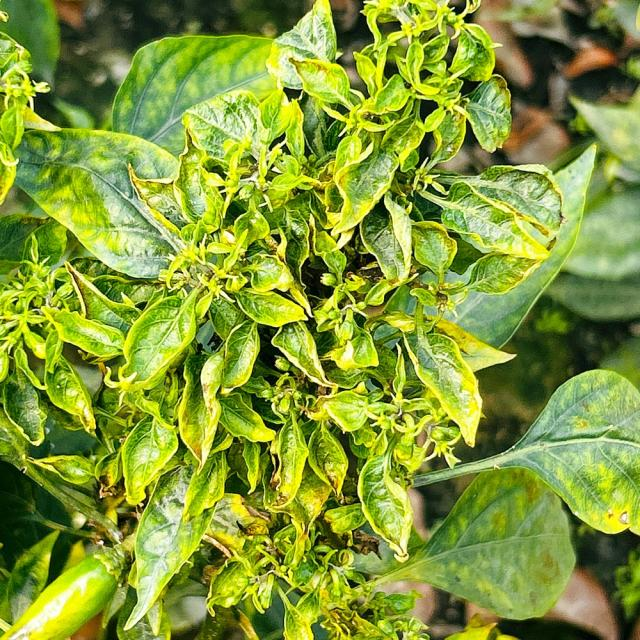Chilli_Leaf_Curl: (0, 0, 638, 638), (353, 367, 638, 621), (353, 464, 578, 621), (12, 126, 189, 280)
